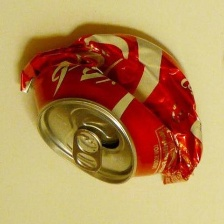can: (14, 28, 207, 192)
